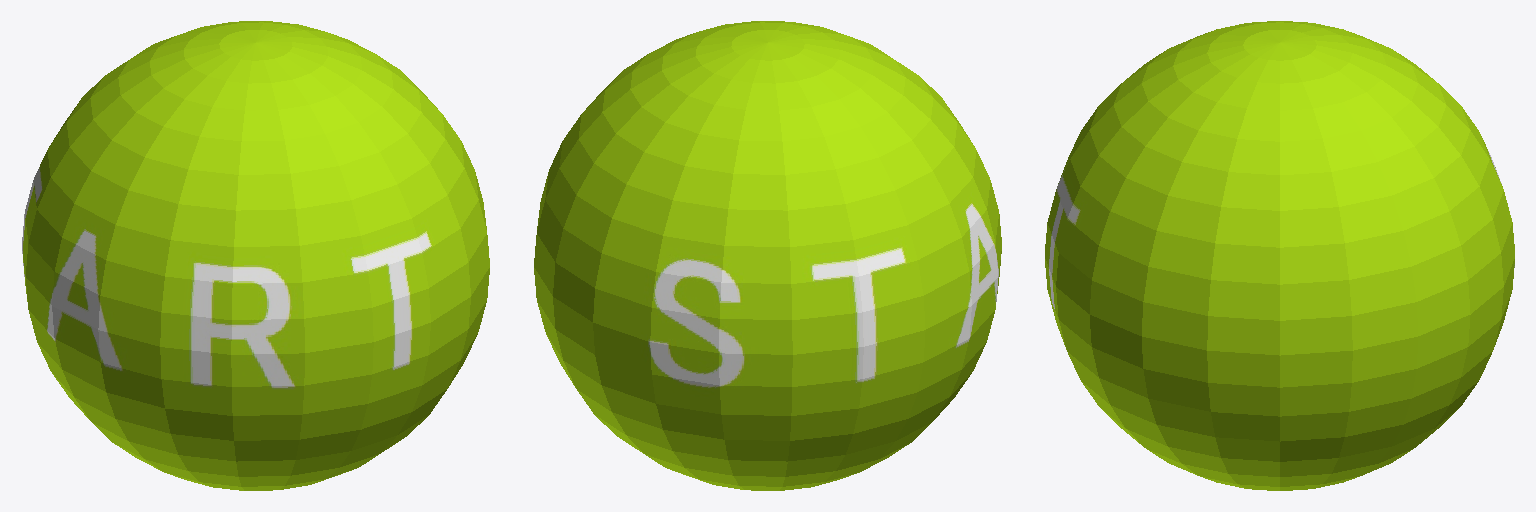
3 renders of one model, left to right at view 1: azimuth 30°, elevation 25°; view 2: azimuth 150°, elevation 25°; view 3: azimuth 270°, elevation 25°, orthographic.
Parts seen in each view (by area): view 1: pSphere1; view 2: pSphere1; view 3: pSphere1.
Boxes of the visible parts, x1,y1,x2,y2 form: pSphere1: [22, 21, 489, 490]; pSphere1: [534, 21, 1001, 490]; pSphere1: [1045, 21, 1514, 490].
Size of the model in its own units: 0.6 by 0.6 by 0.6.
Materials: 1 (1 with a texture image).